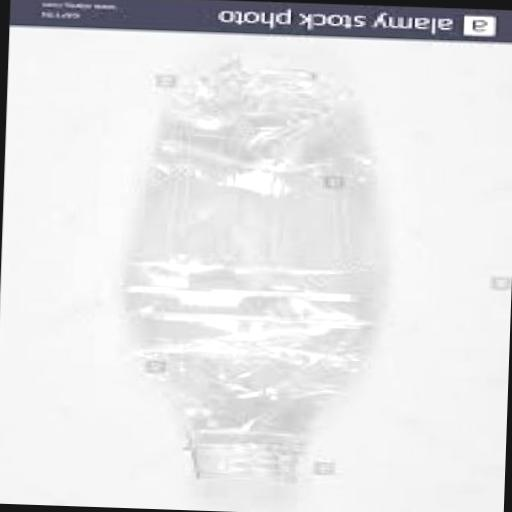plastic: (116, 52, 397, 488)
